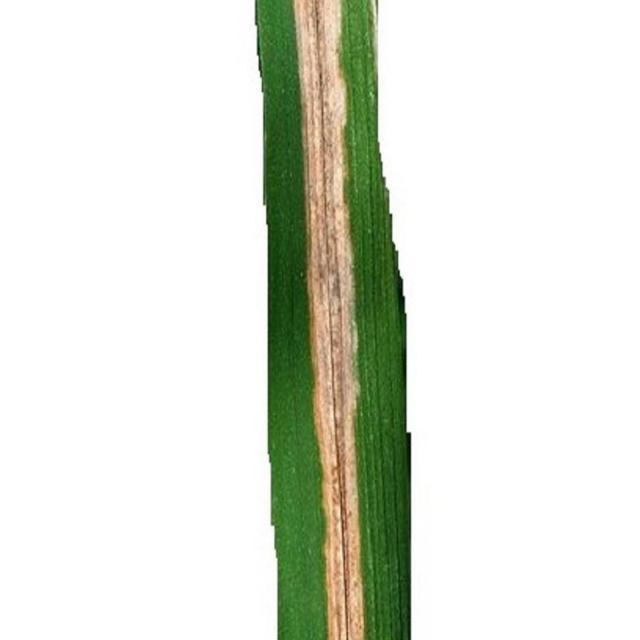leaf blight: (278, 2, 393, 640)
